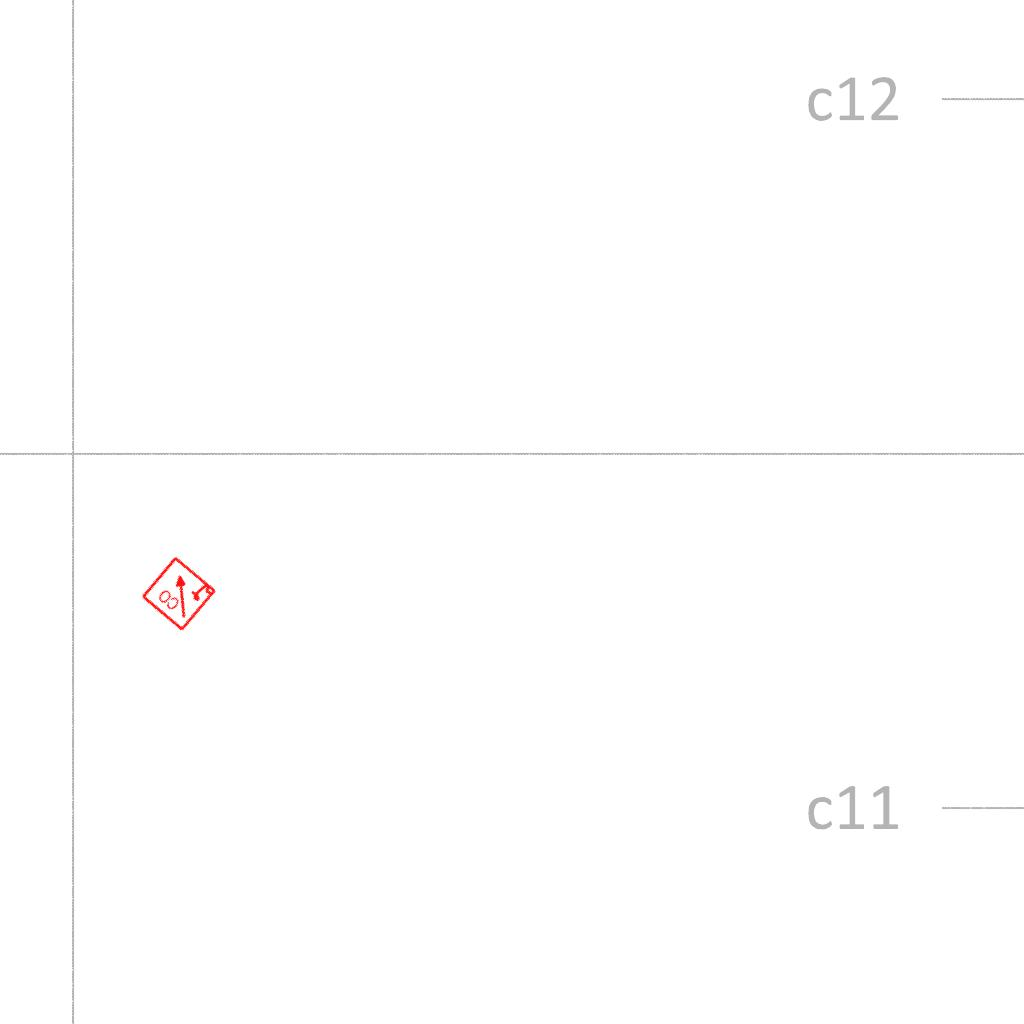ROA_Rauchmelder_optisch_mit_Signalgeber_(Sockelsirene): (139, 553, 219, 633)
